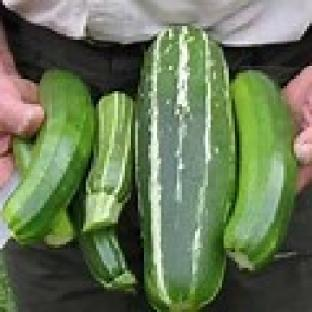Zucchini: (136, 26, 236, 311), (3, 71, 93, 244), (224, 71, 296, 270), (84, 91, 135, 231), (45, 208, 75, 247)
